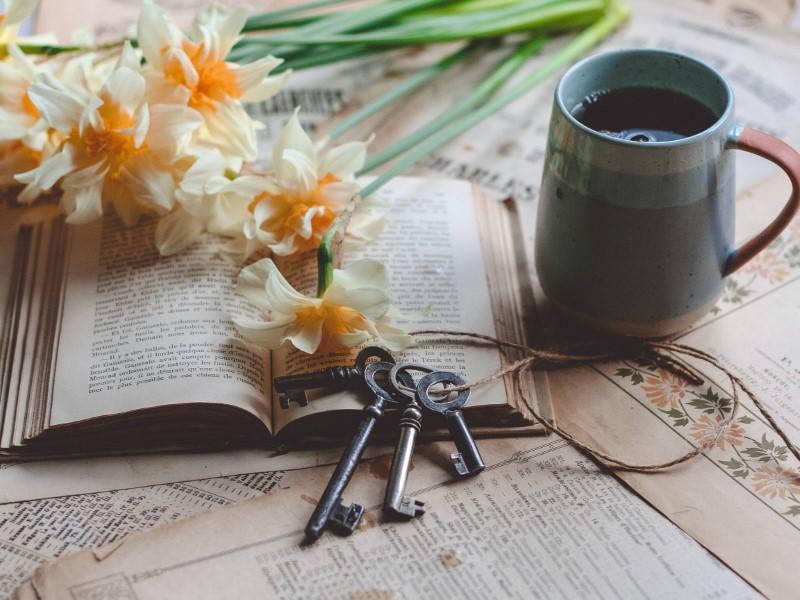key: (272, 341, 489, 539)
